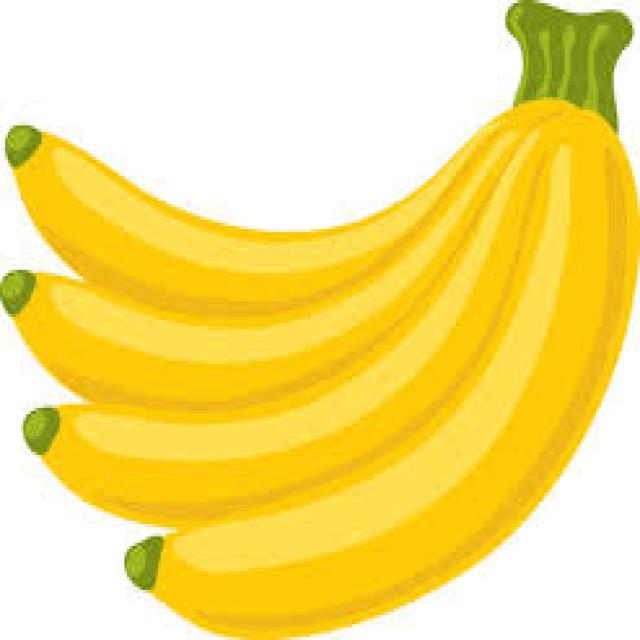banana: (0, 0, 637, 637), (4, 6, 636, 621)
